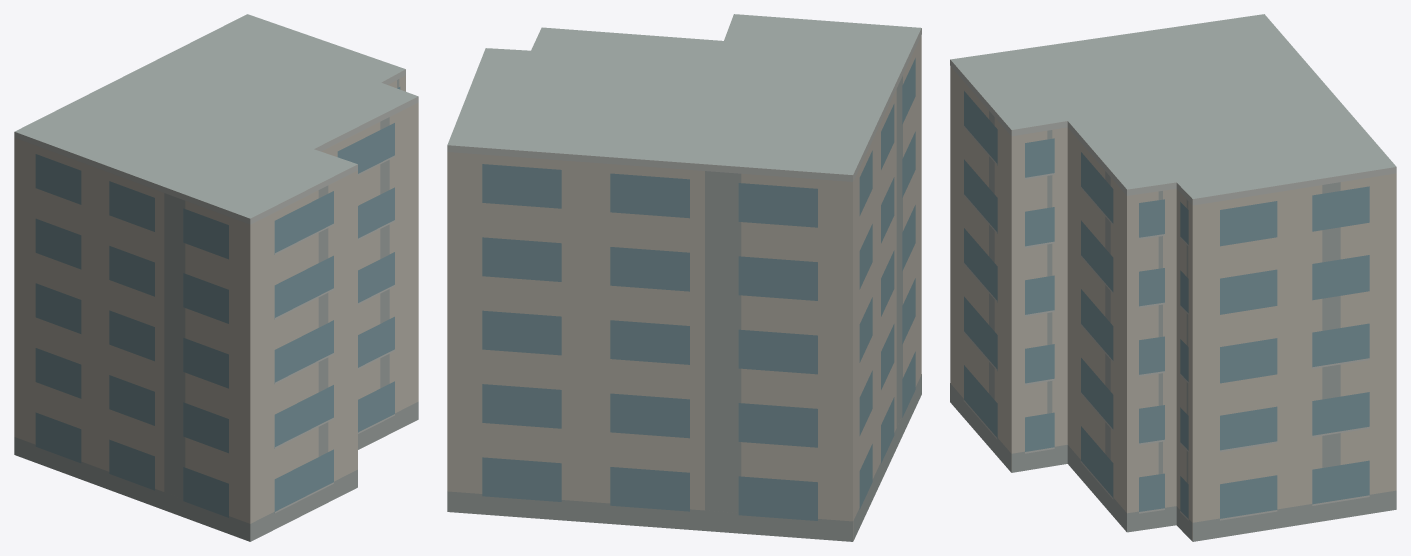
The model's file is survey-upis-32849993.glb.
3 views of the same model, side by side, from view 1: azimuth 30°, elevation 25°; view 2: azimuth 150°, elevation 25°; view 3: azimuth 270°, elevation 25° (orthographic). The views are drawn at different scales.
Visible parts, largest first — view 1: survey-upis-32849993.tmp; view 2: survey-upis-32849993.tmp; view 3: survey-upis-32849993.tmp.
Boxes of the visible parts, x1,y1,x2,y2 form: survey-upis-32849993.tmp: (14, 14, 418, 541); survey-upis-32849993.tmp: (447, 14, 921, 541); survey-upis-32849993.tmp: (950, 14, 1396, 541).
Bounding box in the file's own units: 15.18 × 13.1 × 15.47.
